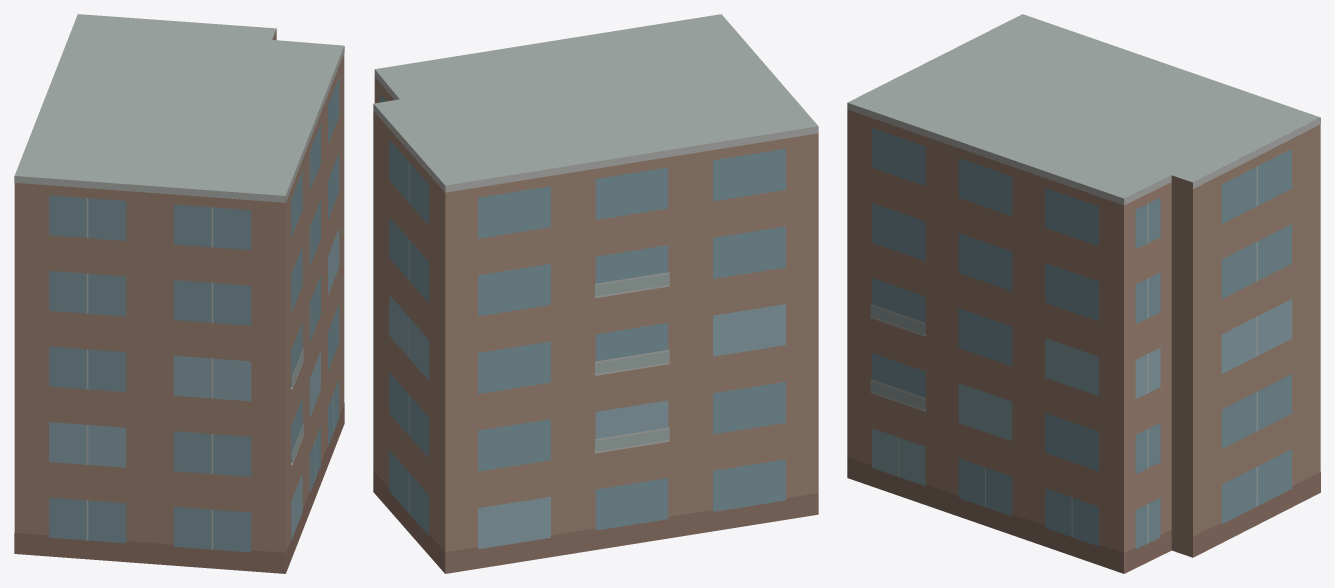
Rendered from survey-upis-32723874.glb.
The picture shows the model from 3 angles, left to right: view 1: azimuth 30°, elevation 25°; view 2: azimuth 150°, elevation 25°; view 3: azimuth 270°, elevation 25°; orthographic projection. The views are drawn at different scales.
Parts seen in each view (by area): view 1: survey-upis-32723874.tmp; view 2: survey-upis-32723874.tmp; view 3: survey-upis-32723874.tmp.
Boxes of the visible parts, x1,y1,x2,y2 form: survey-upis-32723874.tmp: (14,14,344,573); survey-upis-32723874.tmp: (373,14,818,573); survey-upis-32723874.tmp: (847,14,1320,573).
Bounding box in the file's own units: 14.2 × 13.45 × 15.39.
